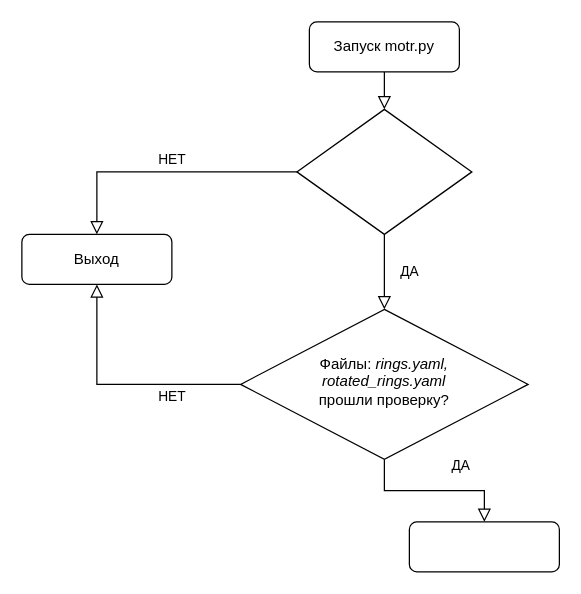
Image size: 581x594. Some labels were removed from this diagram. Here are the shapes that lost their labels. From the top down, the box of each, then its label:
(296, 108, 472, 234): Узел сети был передан?
(408, 521, 559, 572): Repair Lamp
